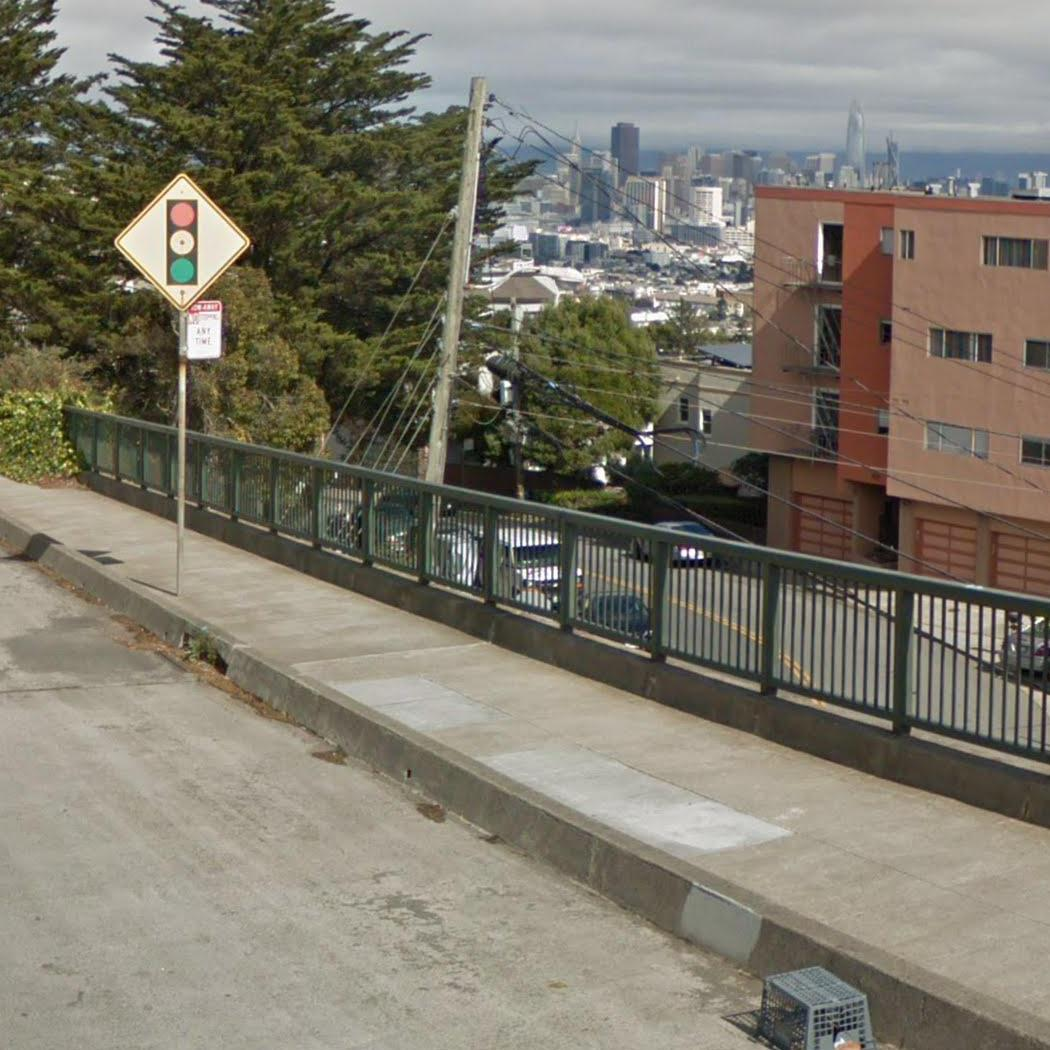No Parking Anytime: (182, 297, 225, 361)
